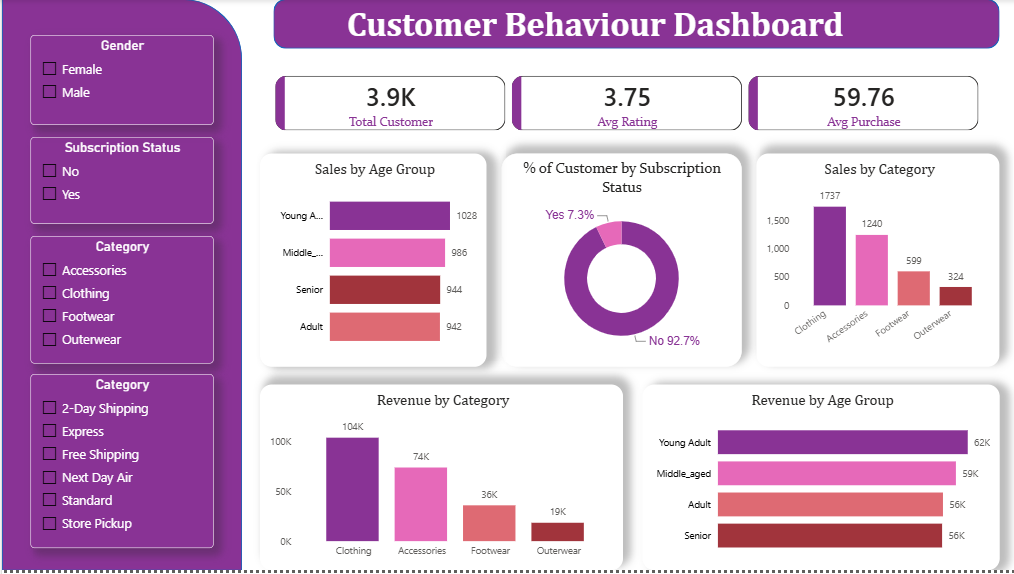

This screenshot's page, from the dashboard's own definition file:
{"tool":"powerbi","page":{"name":"Page 1","canvas":[1280,720],"ordinal":0},"visuals":[{"type":"shape","box":[342,0,914.7,62.4],"z":0},{"type":"shape","box":[0,0,302.4,720],"z":1000},{"type":"cardVisual","fields":{"Data":["CountNonNull(clean_customer_behaviour.customer_id)","Avg(clean_customer_behaviour.review_rating)","Avg(clean_customer_behaviour.purchase_amount)"]},"box":[326.9,79.4,922.2,103.9],"z":2000},{"type":"donutChart","title":"% of Customer by Subscription Status","fields":{"Category":["clean_customer_behaviour.subscription_status"],"Y":["Sum(clean_customer_behaviour.customer_id)"]},"box":[629.3,194.6,302.4,268.3],"z":3000},{"type":"clusteredColumnChart","title":"Revenue by Category","fields":{"Category":["clean_customer_behaviour.category"],"Y":["Sum(clean_customer_behaviour.purchase_amount)"]},"box":[325,485.7,457.3,234.3],"z":4000},{"type":"clusteredColumnChart","title":"Sales by Category","fields":{"Category":["clean_customer_behaviour.category"],"Y":["CountNonNull(clean_customer_behaviour.customer_id)"]},"box":[950.6,194.6,306.1,268.3],"z":5000},{"type":"slicer","title":"Subscription Status","fields":{"Values":["clean_customer_behaviour.subscription_status"]},"box":[35.9,173.9,230.6,109.6],"z":6000},{"type":"slicer","title":"Gender","fields":{"Values":["clean_customer_behaviour.gender"]},"box":[35.9,45.4,230.6,113.4],"z":7000},{"type":"slicer","title":"Category","fields":{"Values":["clean_customer_behaviour.category"]},"box":[35.9,298.6,230.6,160.6],"z":8000},{"type":"slicer","title":"Category","fields":{"Values":["clean_customer_behaviour.shipping_type"]},"box":[35.9,472.4,230.6,219.2],"z":9000},{"type":"barChart","title":"Revenue by Age Group","fields":{"Category":["clean_customer_behaviour.age_group"],"Y":["Sum(clean_customer_behaviour.purchase_amount)"]},"box":[806.9,485.7,449.8,234.3],"z":10000},{"type":"barChart","title":"Sales by Age Group","fields":{"Category":["clean_customer_behaviour.age_group"],"Y":["CountNonNull(clean_customer_behaviour.customer_id)"]},"box":[325,194.6,285.4,268.3],"z":11000},{"type":"textbox","box":[391.2,0,712.4,62.4],"z":12000}]}

Visuals, with their boxes in screenshot pixels (x1, y1, x2, y2), scaled from the page's 1280x720 canvas onto the 1014x574 screenshot:
shape: crop(271, 0, 996, 50)
shape: crop(0, 0, 240, 573)
cardVisual - CountNonNull(clean_customer_behaviour.customer_id) x Avg(clean_customer_behaviour.review_rating): crop(259, 63, 990, 146)
"% of Customer by Subscription Status" donutChart: crop(499, 155, 738, 369)
"Revenue by Category" clusteredColumnChart: crop(257, 387, 620, 573)
"Sales by Category" clusteredColumnChart: crop(753, 155, 996, 369)
"Subscription Status" slicer: crop(28, 139, 211, 226)
"Gender" slicer: crop(28, 36, 211, 127)
"Category" slicer: crop(28, 238, 211, 366)
"Category" slicer: crop(28, 377, 211, 551)
"Revenue by Age Group" barChart: crop(639, 387, 996, 573)
"Sales by Age Group" barChart: crop(257, 155, 484, 369)
textbox: crop(310, 0, 874, 50)
